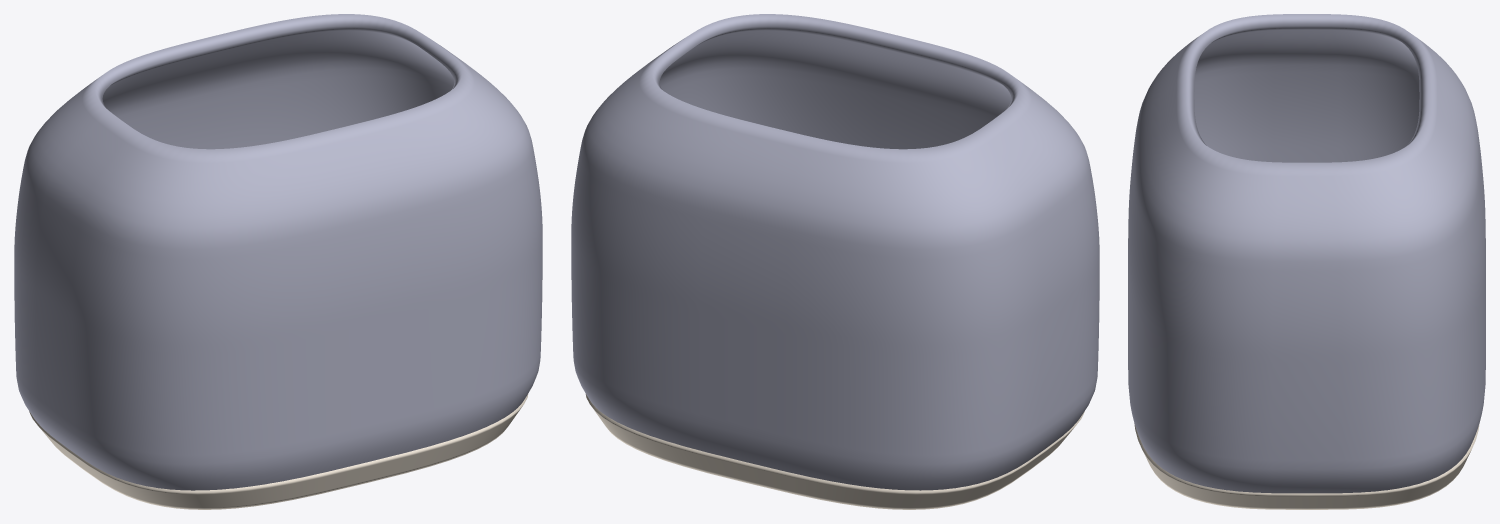
File: squire_cuirass.glb
3 views of the same model, side by side, from view 1: azimuth 30°, elevation 25°; view 2: azimuth 150°, elevation 25°; view 3: azimuth 270°, elevation 25° (orthographic). The views are drawn at different scales.
Parts seen in each view (by area): view 1: squire_cuirass__cuirass, squire_cuirass__lower_rim; view 2: squire_cuirass__cuirass, squire_cuirass__lower_rim; view 3: squire_cuirass__cuirass, squire_cuirass__lower_rim.
Boxes of the visible parts, x1,y1,x2,y2 form: squire_cuirass__cuirass: (14,14,542,490); squire_cuirass__lower_rim: (29,394,528,509); squire_cuirass__cuirass: (571,14,1099,490); squire_cuirass__lower_rim: (585,394,1084,509); squire_cuirass__cuirass: (1128,14,1485,493); squire_cuirass__lower_rim: (1134,423,1479,509).
Bounding box in the file's own units: 1.1 × 0.798 × 0.786.
